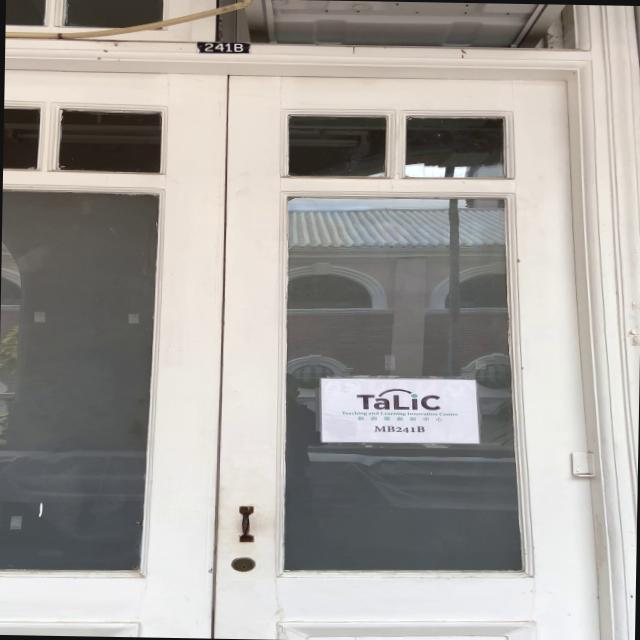room241b: (193, 40, 251, 56)
